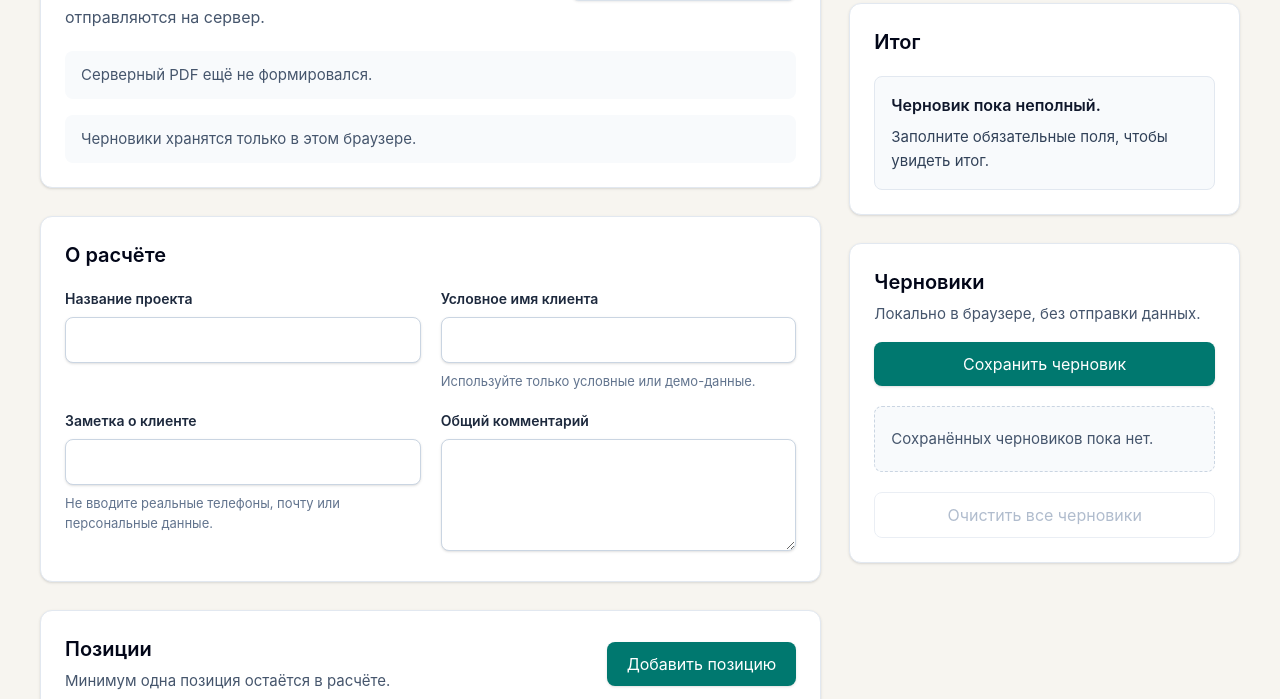
QuoteFlow UI › updates an existing draft
(page scrolled)
In the field labelled "Название проекта": (243, 340) [65,317,421,363], type "Версия"
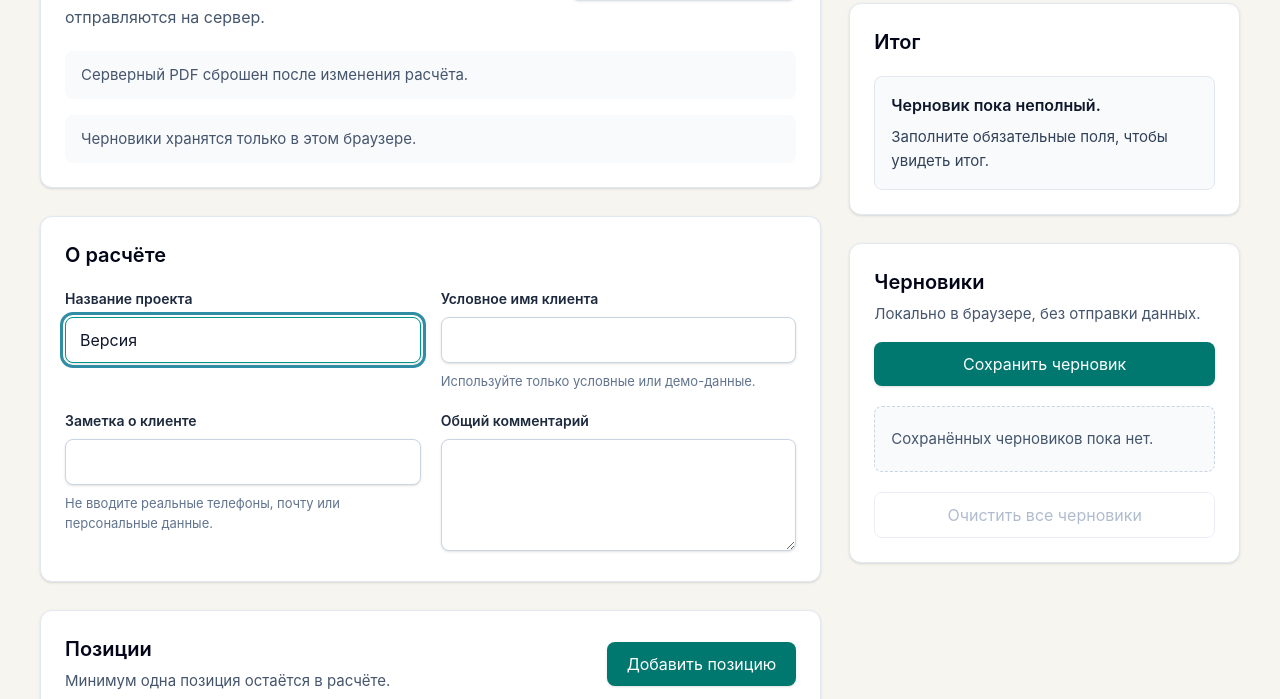
Click the button "Сохранить черновик": (1045, 364) [874,342,1215,386]
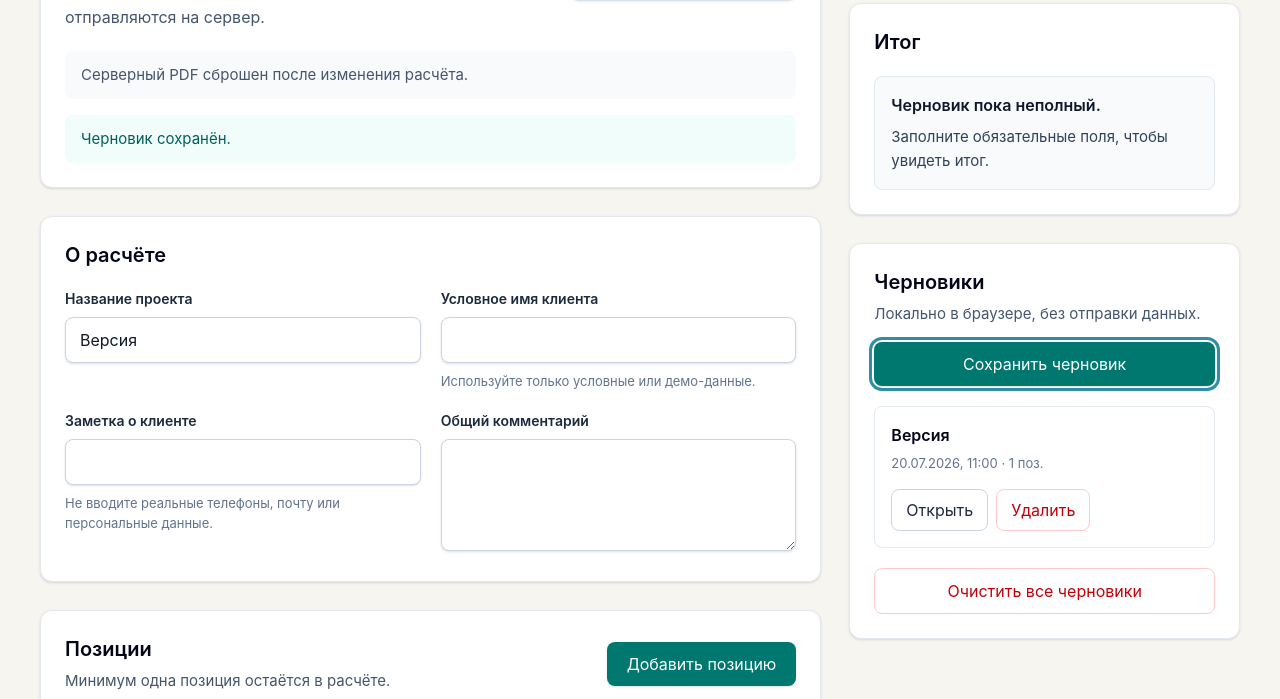
In the field labelled "Название проекта": (243, 340) [65,317,421,363], type " 2"
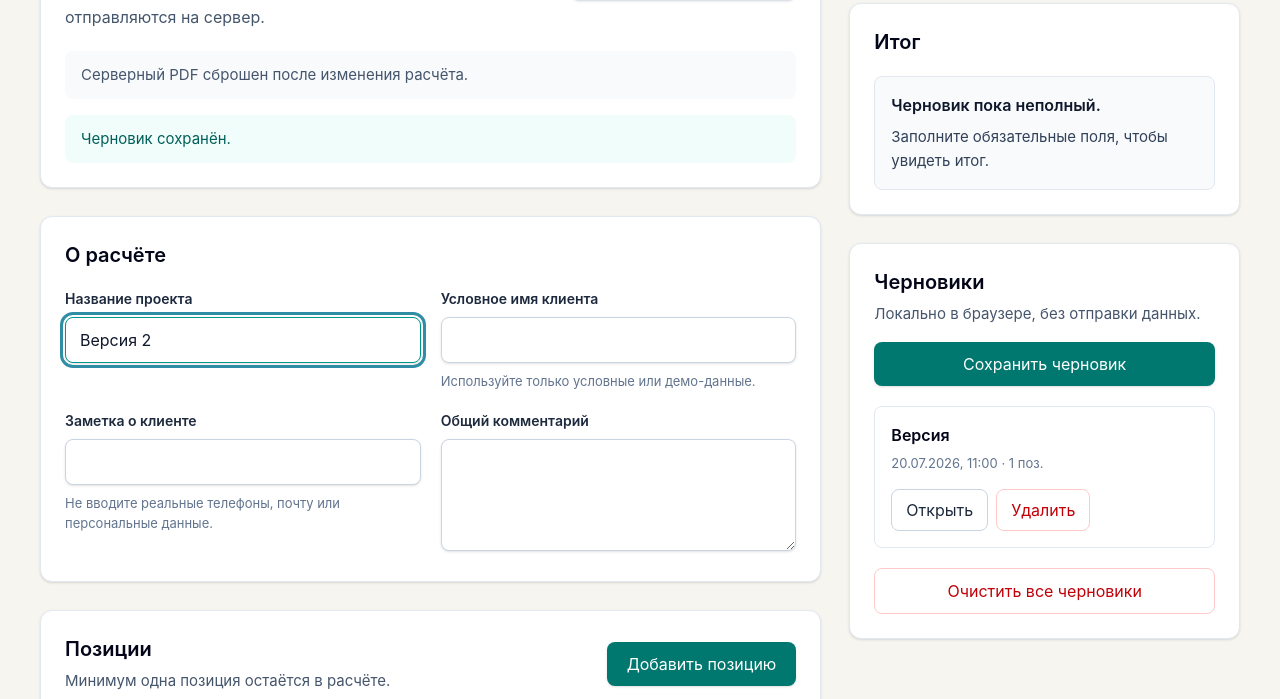
Click the button "Сохранить черновик": (1045, 364) [874,342,1215,386]
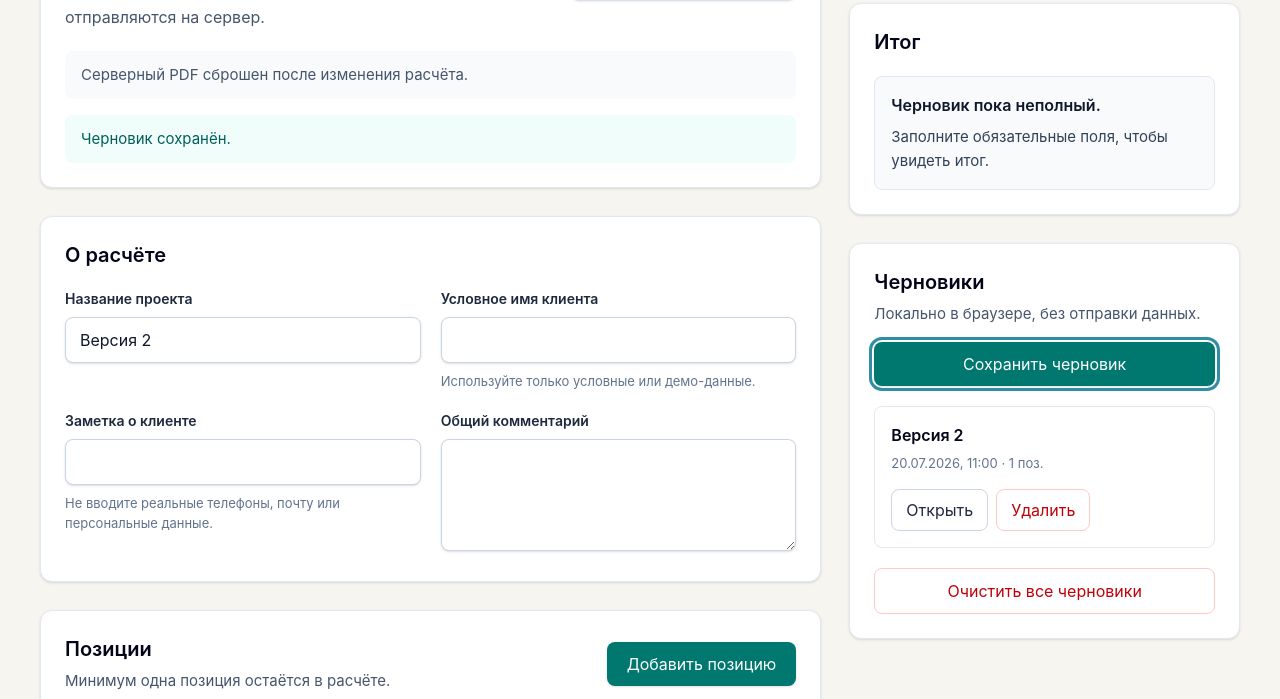
Now the heading "Версия 2" is shown, box [891,425,964,445]
